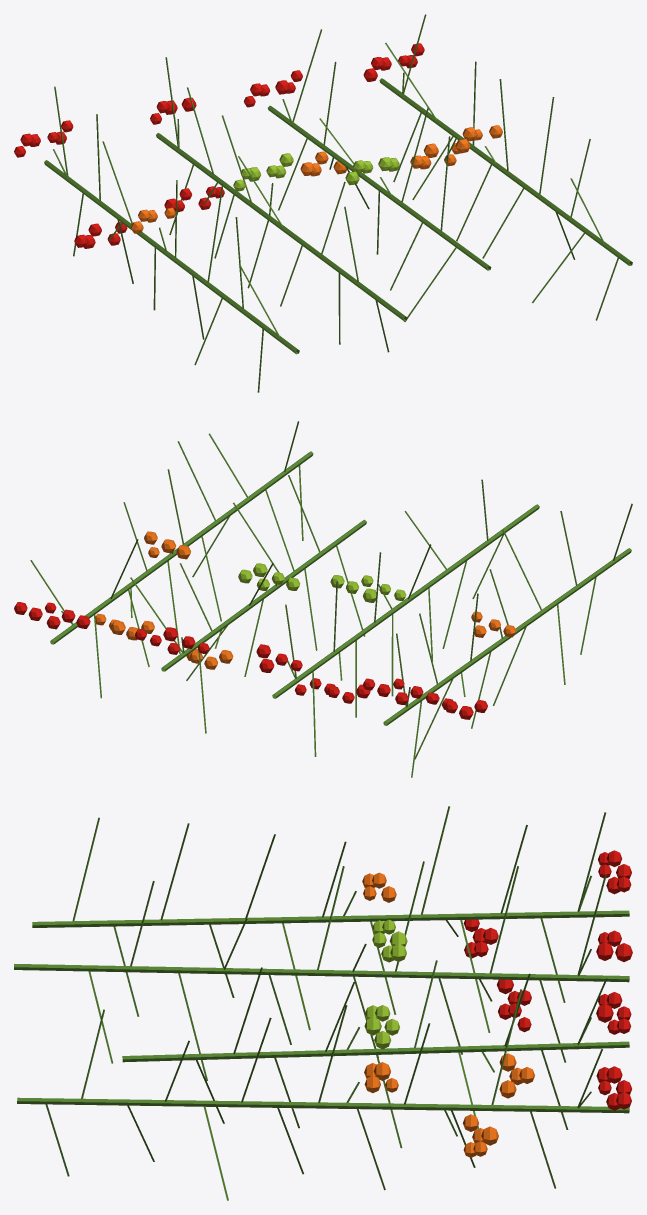
Rendered from r12c2_stems.obj.
The picture shows the model from 3 angles, top to bottom: view 1: azimuth 30°, elevation 25°; view 2: azimuth 150°, elevation 25°; view 3: azimuth 270°, elevation 25°; orthographic projection. The views are drawn at different scales.
Visible parts, largest first — view 1: r12c2_stems; view 2: r12c2_stems; view 3: r12c2_stems.
Boxes of the visible parts, x1,y1,x2,y2 form: r12c2_stems: (14, 14, 632, 392); r12c2_stems: (14, 421, 632, 777); r12c2_stems: (14, 806, 632, 1200).
Bounding box in the file's own units: 2.12 × 0.8425 × 2.27.
